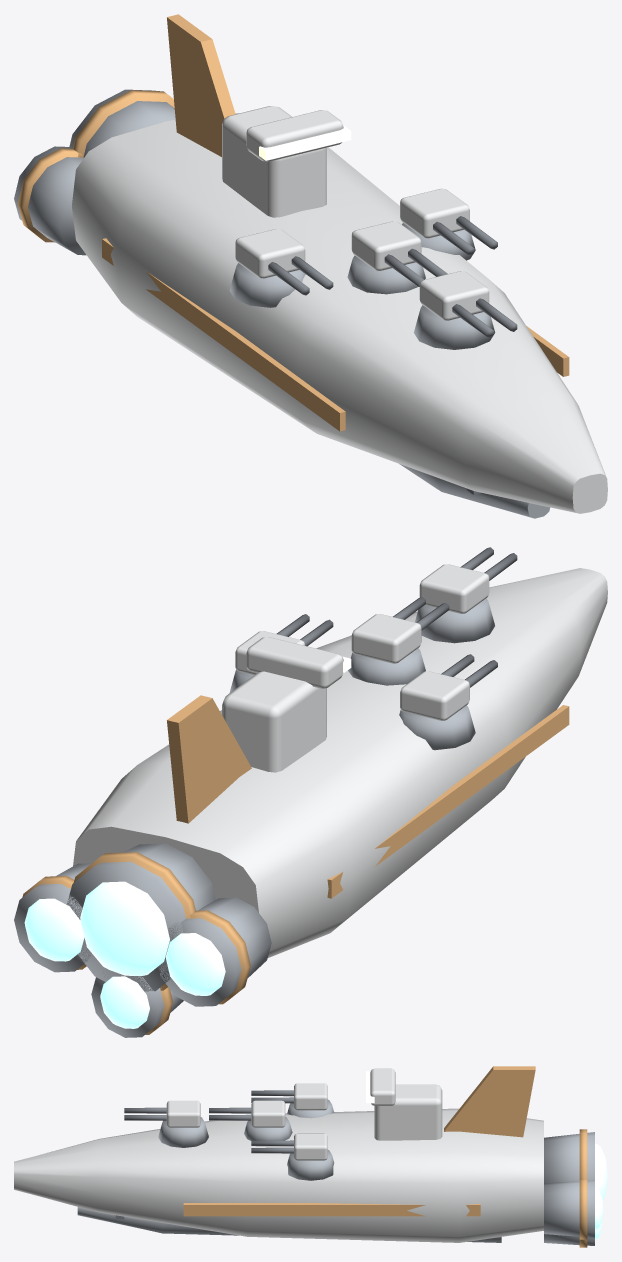
Rendered from h_cruiser.glb.
The picture shows the model from 3 angles, top to bottom: view 1: azimuth 30°, elevation 25°; view 2: azimuth 150°, elevation 25°; view 3: azimuth 270°, elevation 25°; orthographic projection. The views are drawn at different scales.
Visible parts, largest first — view 1: hull, metal, paint, glow; view 2: hull, metal, paint, glow; view 3: hull, metal, paint, glow.
Boxes of the visible parts, <box> form: hull: <box>72,106,607,513</box>; metal: <box>14,89,550,518</box>; paint: <box>17,14,569,431</box>; glow: <box>259,126,351,160</box>; hull: <box>73,568,607,957</box>; metal: <box>14,547,517,1037</box>; paint: <box>22,695,569,1034</box>; glow: <box>24,656,351,1028</box>; hull: <box>14,1068,543,1242</box>; metal: <box>77,1083,594,1245</box>; paint: <box>183,1066,587,1247</box>; glow: <box>366,1071,607,1239</box>.
Size of what is drawn, in the model's own units: 0.4001 by 0.4609 by 1.4.
